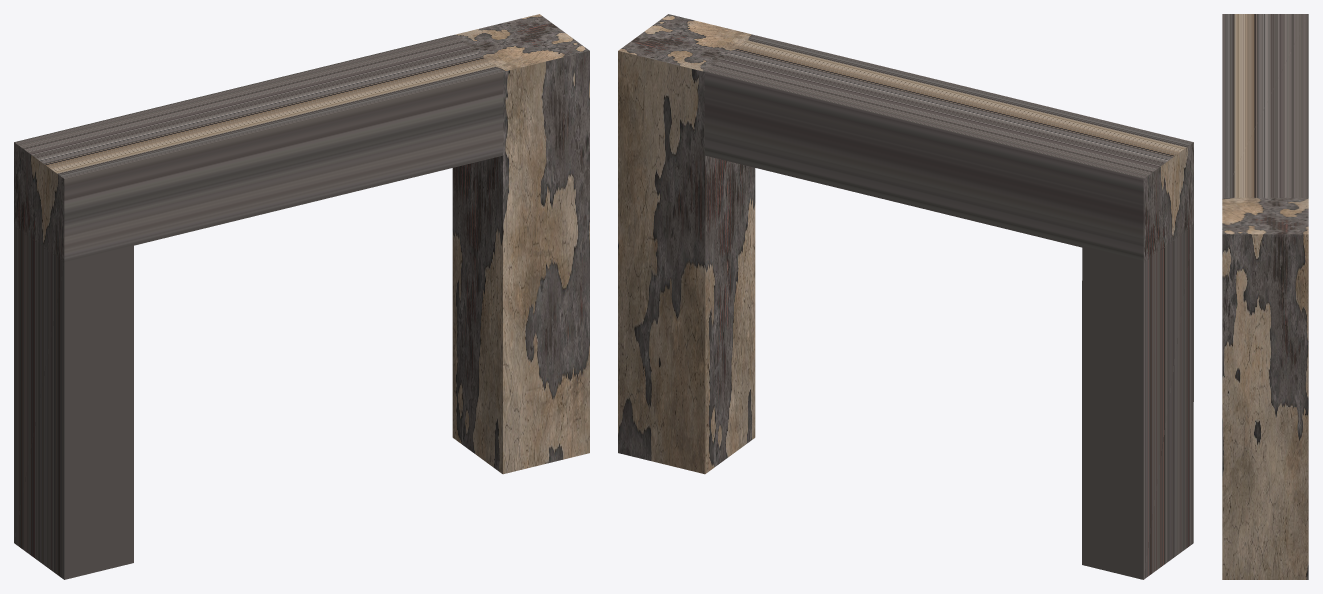
The model's file is  conexion pared.fbx.
3 views of the same model, side by side, from view 1: azimuth 30°, elevation 25°; view 2: azimuth 150°, elevation 25°; view 3: azimuth 270°, elevation 25° (orthographic). The views are drawn at different scales.
Parts seen in each view (by area): view 1: Cube; view 2: Cube; view 3: Cube.
Boxes of the visible parts, box(x1,y1,x2,y2) form: Cube: box(14, 14, 589, 579); Cube: box(618, 14, 1193, 579); Cube: box(1222, 14, 1308, 579).
Size of the model in its own units: 1207 by 883 by 200.
